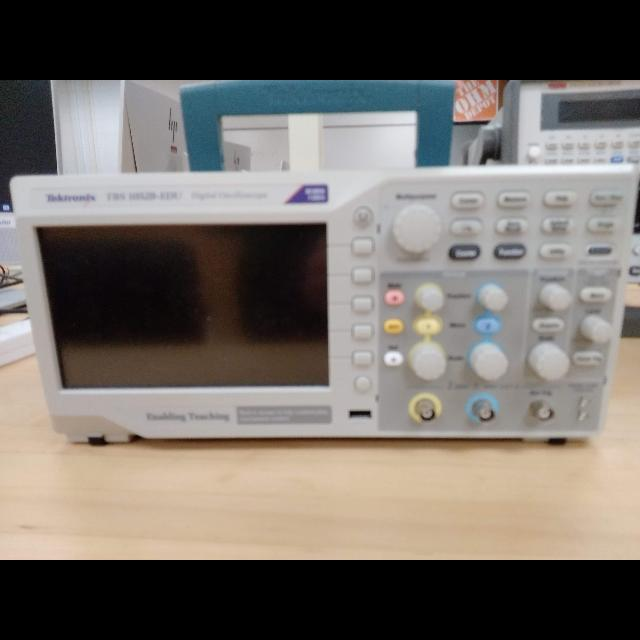Digital-Oscilloscope: (8, 167, 640, 442)
